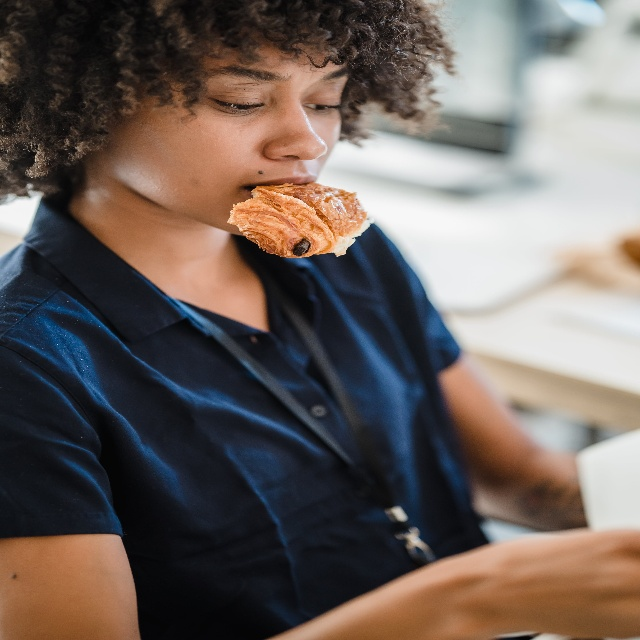Sin_guantes: (507, 524, 640, 640)
